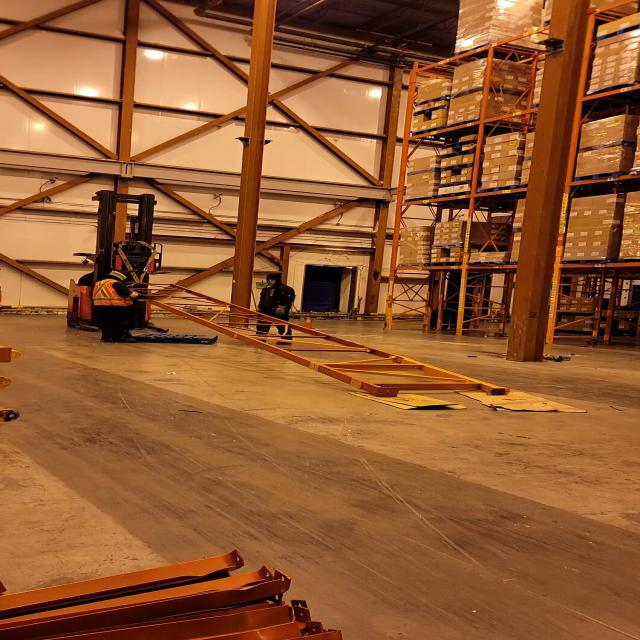forklift: (64, 195, 173, 335)
human: (88, 269, 150, 345), (249, 273, 298, 350), (72, 262, 117, 290), (0, 265, 5, 332)
objectofinterest: (111, 278, 515, 397), (449, 384, 598, 416), (346, 389, 470, 413), (104, 326, 224, 346)
